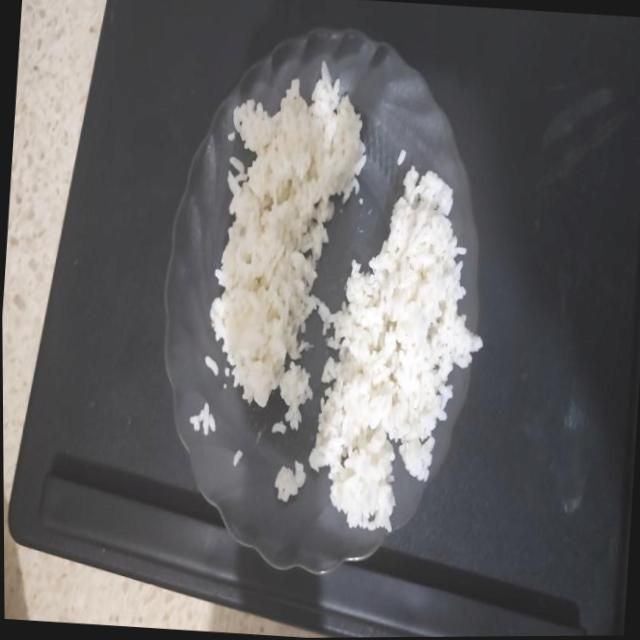nasi_putih: (309, 166, 481, 531), (210, 62, 365, 412)
